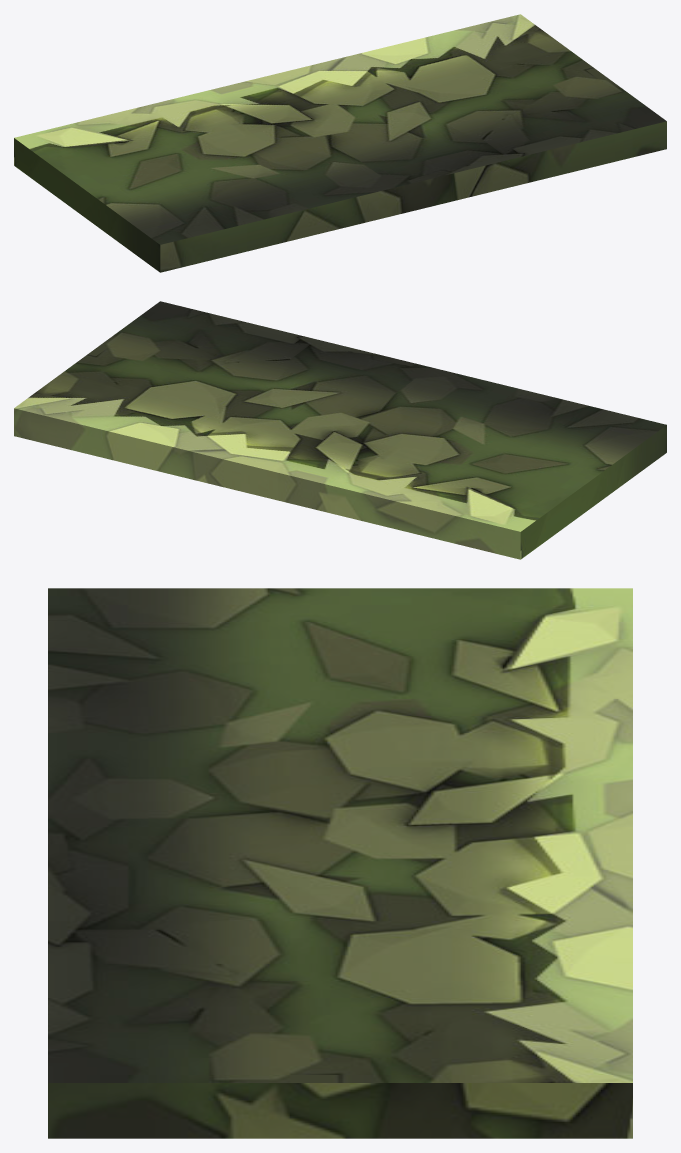
File: wall.fbx
3 views of the same model, one above another, from view 1: azimuth 30°, elevation 25°; view 2: azimuth 150°, elevation 25°; view 3: azimuth 270°, elevation 25° (orthographic). The views are drawn at different scales.
Visible parts, largest first — view 1: Plane; view 2: Plane; view 3: Plane.
Boxes of the visible parts, x1=… form: Plane: x1=14, y1=14, x2=666, y2=272; Plane: x1=14, y1=301, x2=666, y2=559; Plane: x1=48, y1=588, x2=632, y2=1138.
Size of the model in its own units: 4 by 0.21 by 2.
Materials: 1 (1 with a texture image).
